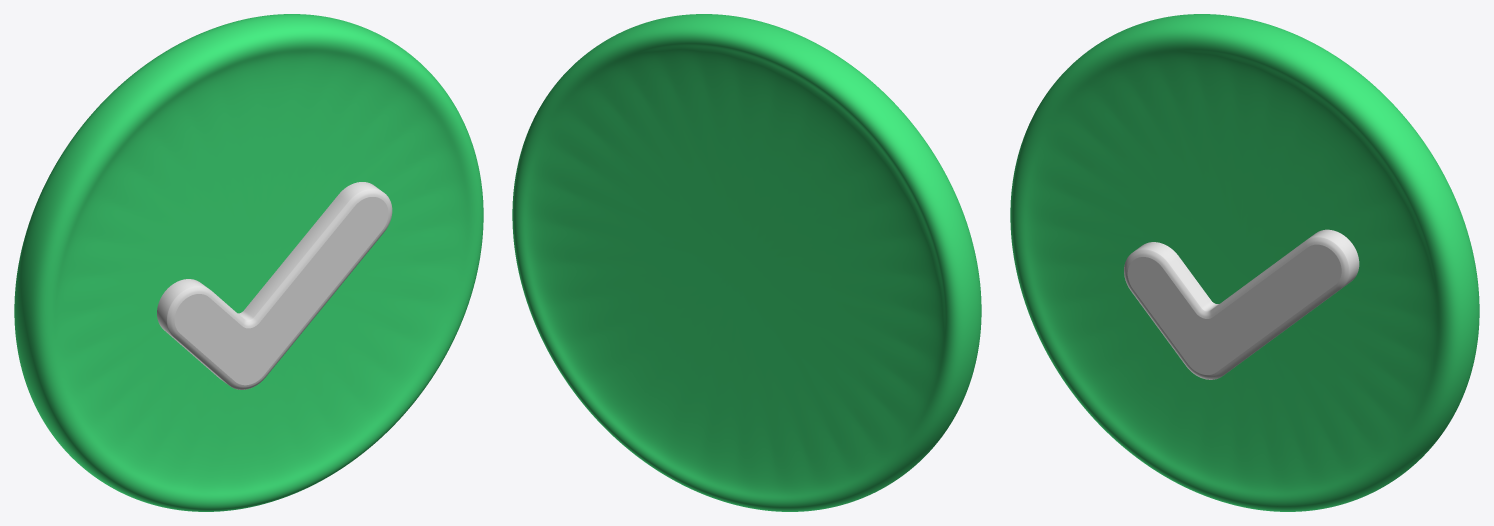
Rendered from check.glb.
The picture shows the model from 3 angles, left to right: view 1: azimuth 30°, elevation 25°; view 2: azimuth 150°, elevation 25°; view 3: azimuth 330°, elevation 25°; orthographic projection.
Parts seen in each view (by area): view 1: Cube.005, Curve.003; view 2: Cube.005; view 3: Cube.005, Curve.003.
Part boxes in pixels (box(x1,y1,x2,y2)): Cube.005: box(14, 14, 483, 511); Curve.003: box(157, 182, 392, 389); Cube.005: box(512, 14, 981, 511); Cube.005: box(1010, 14, 1479, 511); Curve.003: box(1124, 229, 1359, 379).
Size of the model in its own units: 24.46 by 24.46 by 3.18.
